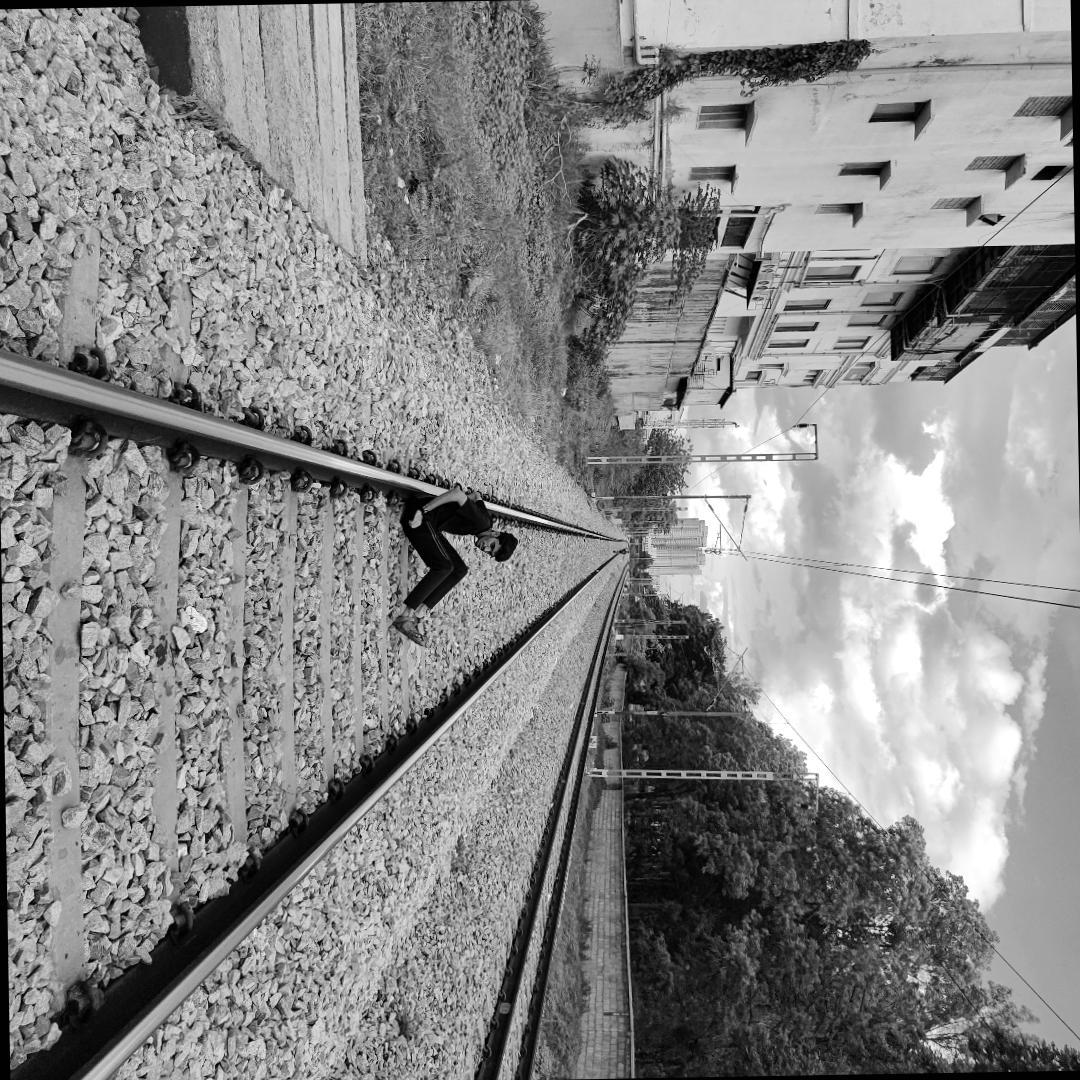sitting: (390, 481, 514, 636)
